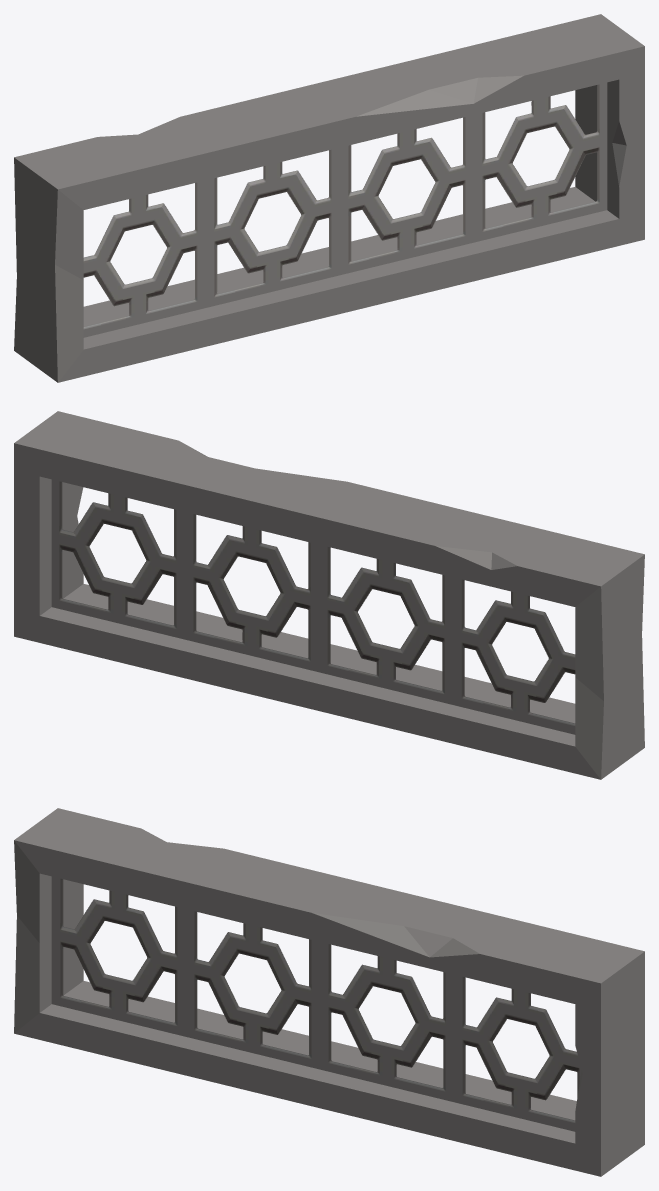
File: SM_Bld_Decorative_Block_02.glb
3 views of the same model, one above another, from view 1: azimuth 30°, elevation 25°; view 2: azimuth 150°, elevation 25°; view 3: azimuth 330°, elevation 25° (orthographic).
Parts seen in each view (by area): view 1: SM_Bld_Decorative_Block_02; view 2: SM_Bld_Decorative_Block_02; view 3: SM_Bld_Decorative_Block_02.
Part boxes in pixels (box(x1,y1,x2,y2)): SM_Bld_Decorative_Block_02: box(14, 14, 644, 382); SM_Bld_Decorative_Block_02: box(14, 411, 644, 779); SM_Bld_Decorative_Block_02: box(14, 808, 644, 1176).
Size of the model in its own units: 1.82 by 0.5728 by 0.2356.
1 material, 1 textured.
